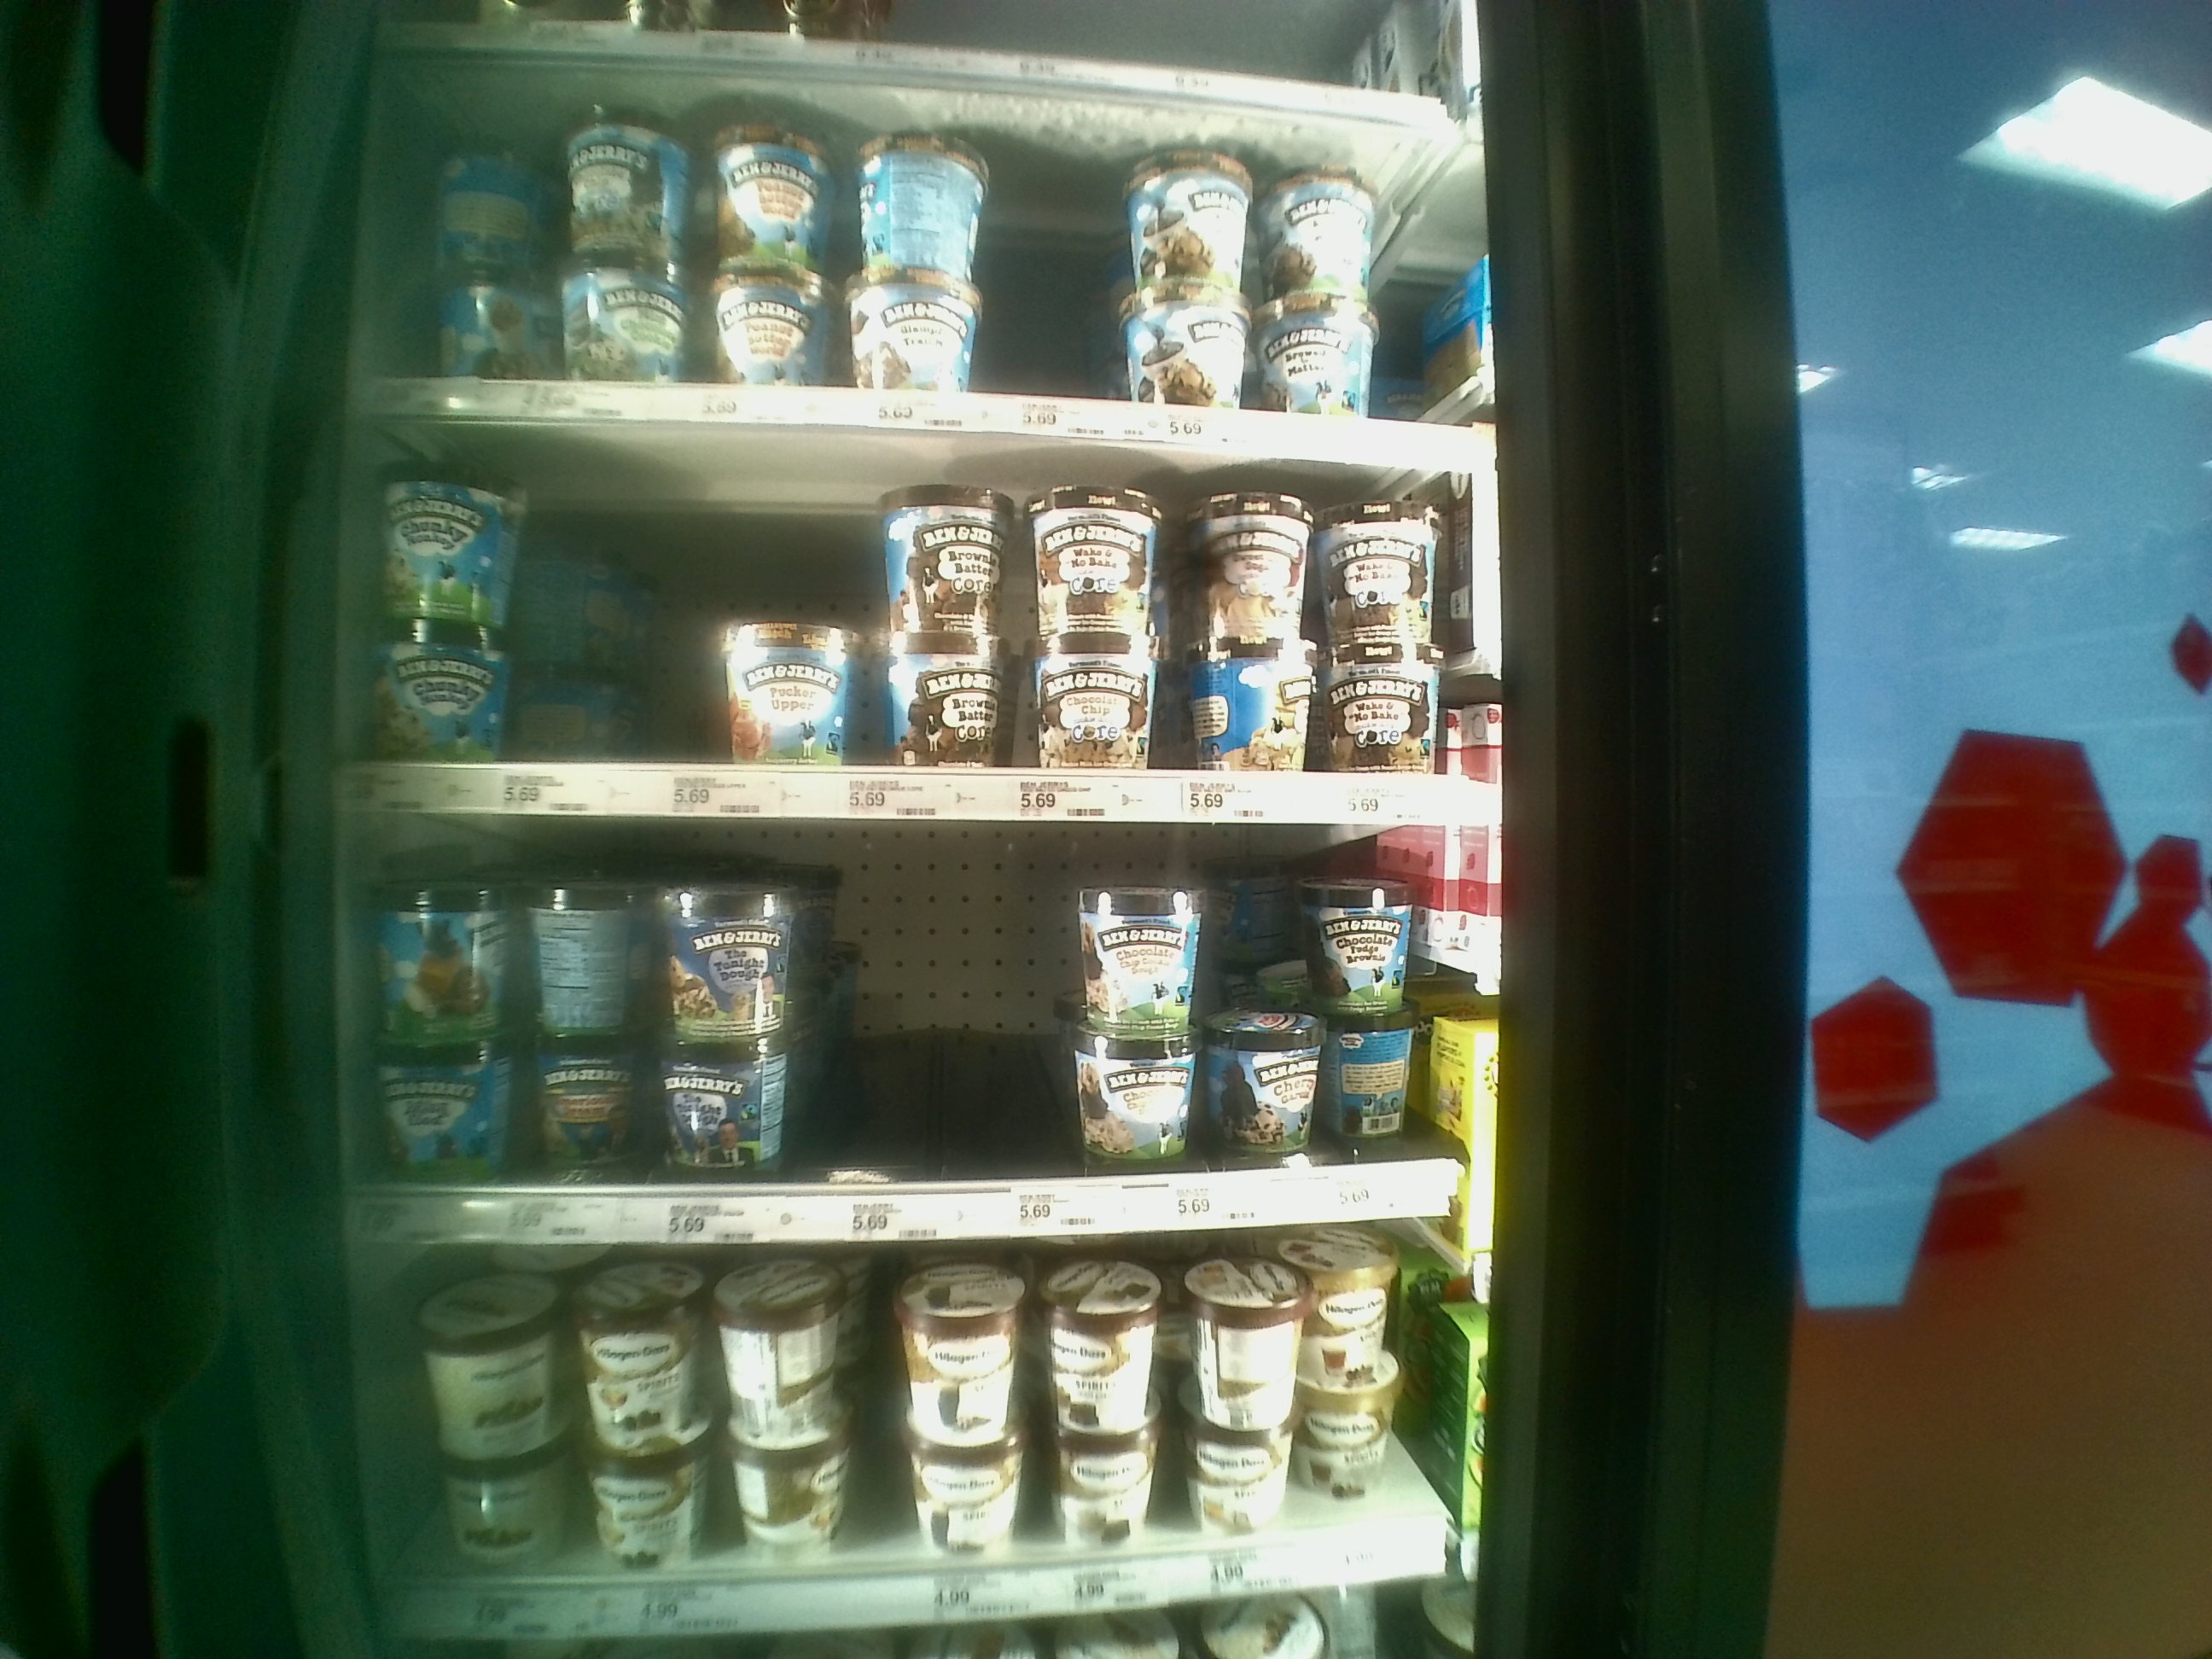ice-cream-shelf: (347, 1230, 1510, 1650), (343, 824, 1479, 1234), (341, 436, 1508, 819), (350, 56, 1503, 425)
